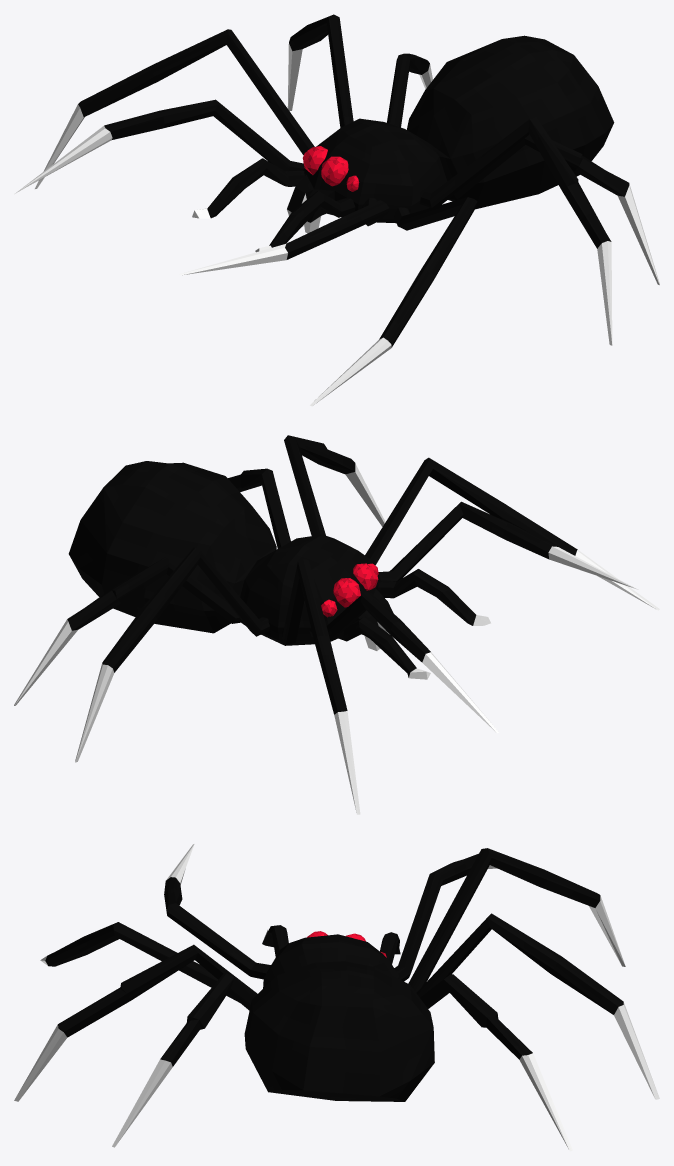
File: spiderAttack11.obj
3 renders of one model, top to bottom at view 1: azimuth 30°, elevation 25°; view 2: azimuth 150°, elevation 25°; view 3: azimuth 270°, elevation 25°, orthographic.
Visible parts, largest first — view 1: Cube.004_Cube.005; view 2: Cube.004_Cube.005; view 3: Cube.004_Cube.005.
Part boxes in pixels (x1=…): Cube.004_Cube.005: x1=15, y1=14, x2=659, y2=406; Cube.004_Cube.005: x1=14, y1=435, x2=659, y2=814; Cube.004_Cube.005: x1=14, y1=844, x2=659, y2=1151.
Size of the model in its own units: 31.18 by 10.7 by 34.73.
